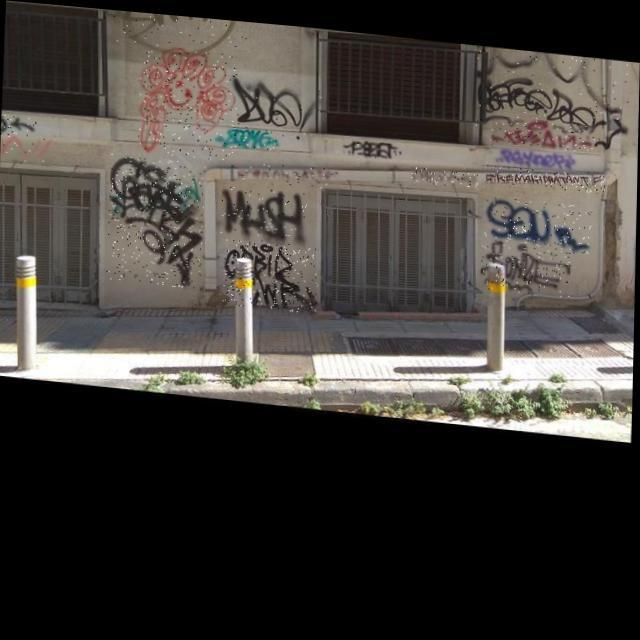-: (474, 36, 632, 140), (108, 150, 206, 286), (138, 40, 238, 157), (103, 8, 249, 58), (223, 234, 320, 308), (484, 186, 592, 244), (232, 71, 324, 136), (220, 180, 308, 240), (481, 230, 572, 286), (490, 105, 595, 142), (487, 154, 605, 182), (238, 154, 340, 183), (492, 134, 576, 162), (216, 121, 282, 148), (0, 134, 52, 166), (411, 158, 478, 180), (342, 132, 402, 154), (1, 114, 38, 138)
